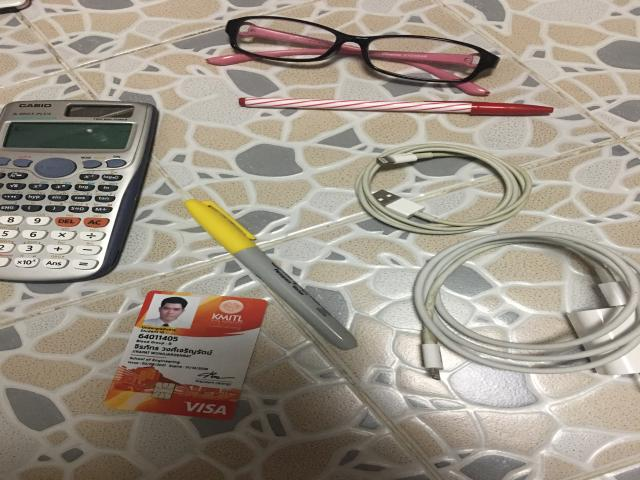Glasses: (208, 16, 500, 94)
Pen: (185, 199, 357, 350), (238, 98, 553, 115)
wire: (413, 232, 640, 379), (355, 143, 532, 234)
